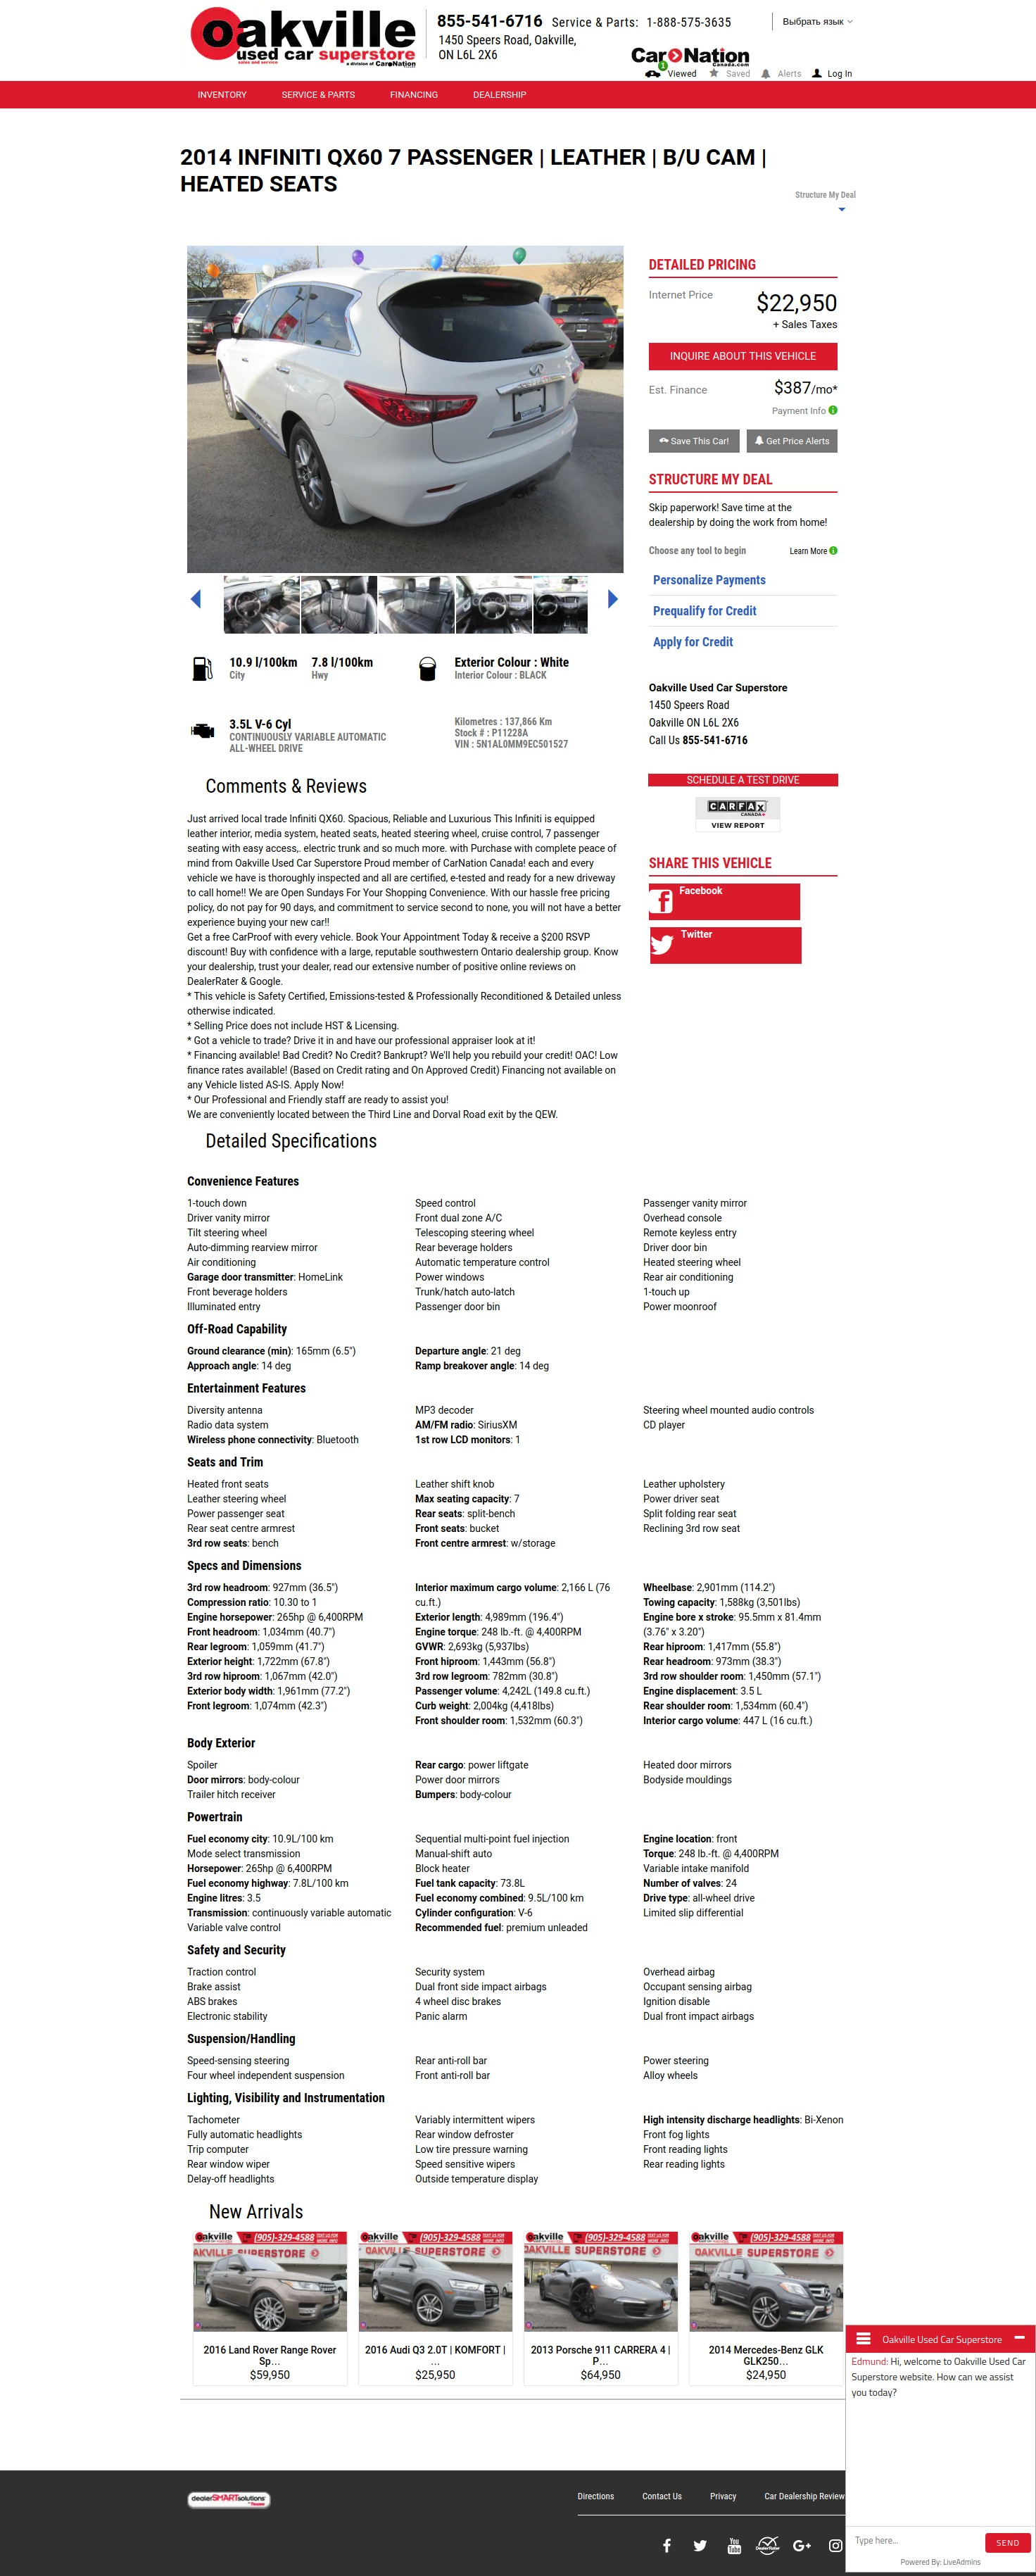car: (607, 590, 619, 610)
